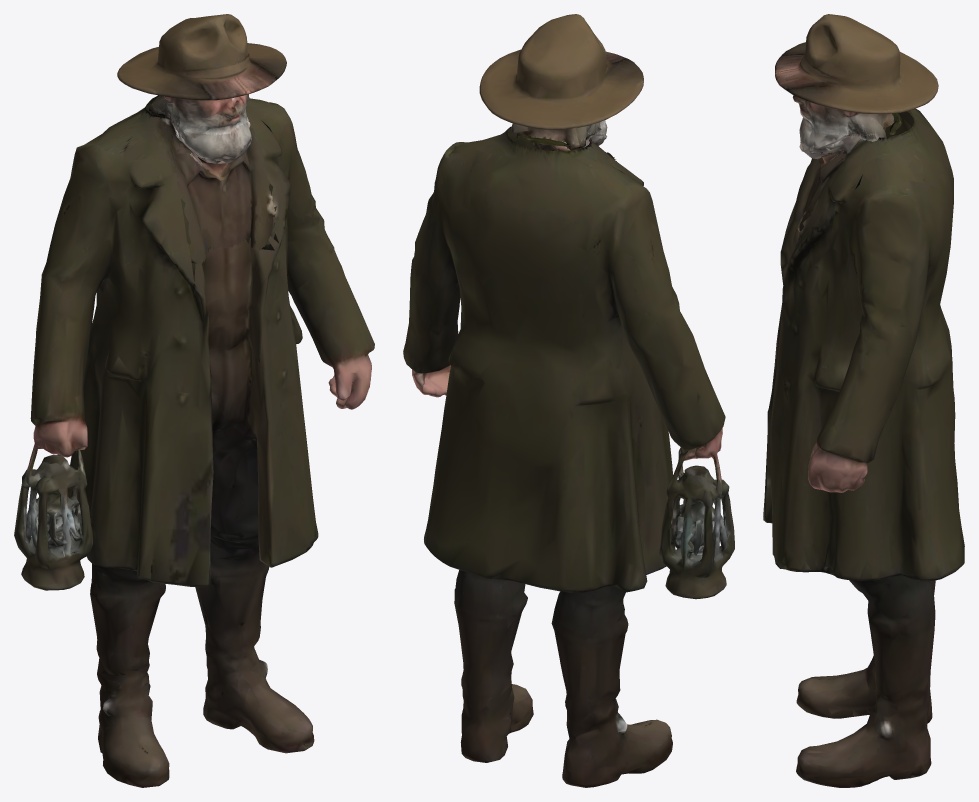
Rendered from ranger.glb.
The picture shows the model from 3 angles, left to right: view 1: azimuth 30°, elevation 25°; view 2: azimuth 150°, elevation 25°; view 3: azimuth 270°, elevation 25°; orthographic projection. The views are drawn at different scales.
Parts seen in each view (by area): view 1: ranger.raw; view 2: ranger.raw; view 3: ranger.raw.
Boxes of the visible parts, x1,y1,x2,y2 form: ranger.raw: (14, 14, 374, 787); ranger.raw: (403, 14, 734, 787); ranger.raw: (763, 14, 964, 787).
Bounding box in the file's own units: 0.8417 × 1.79 × 0.4501.
1 material, 1 textured.
